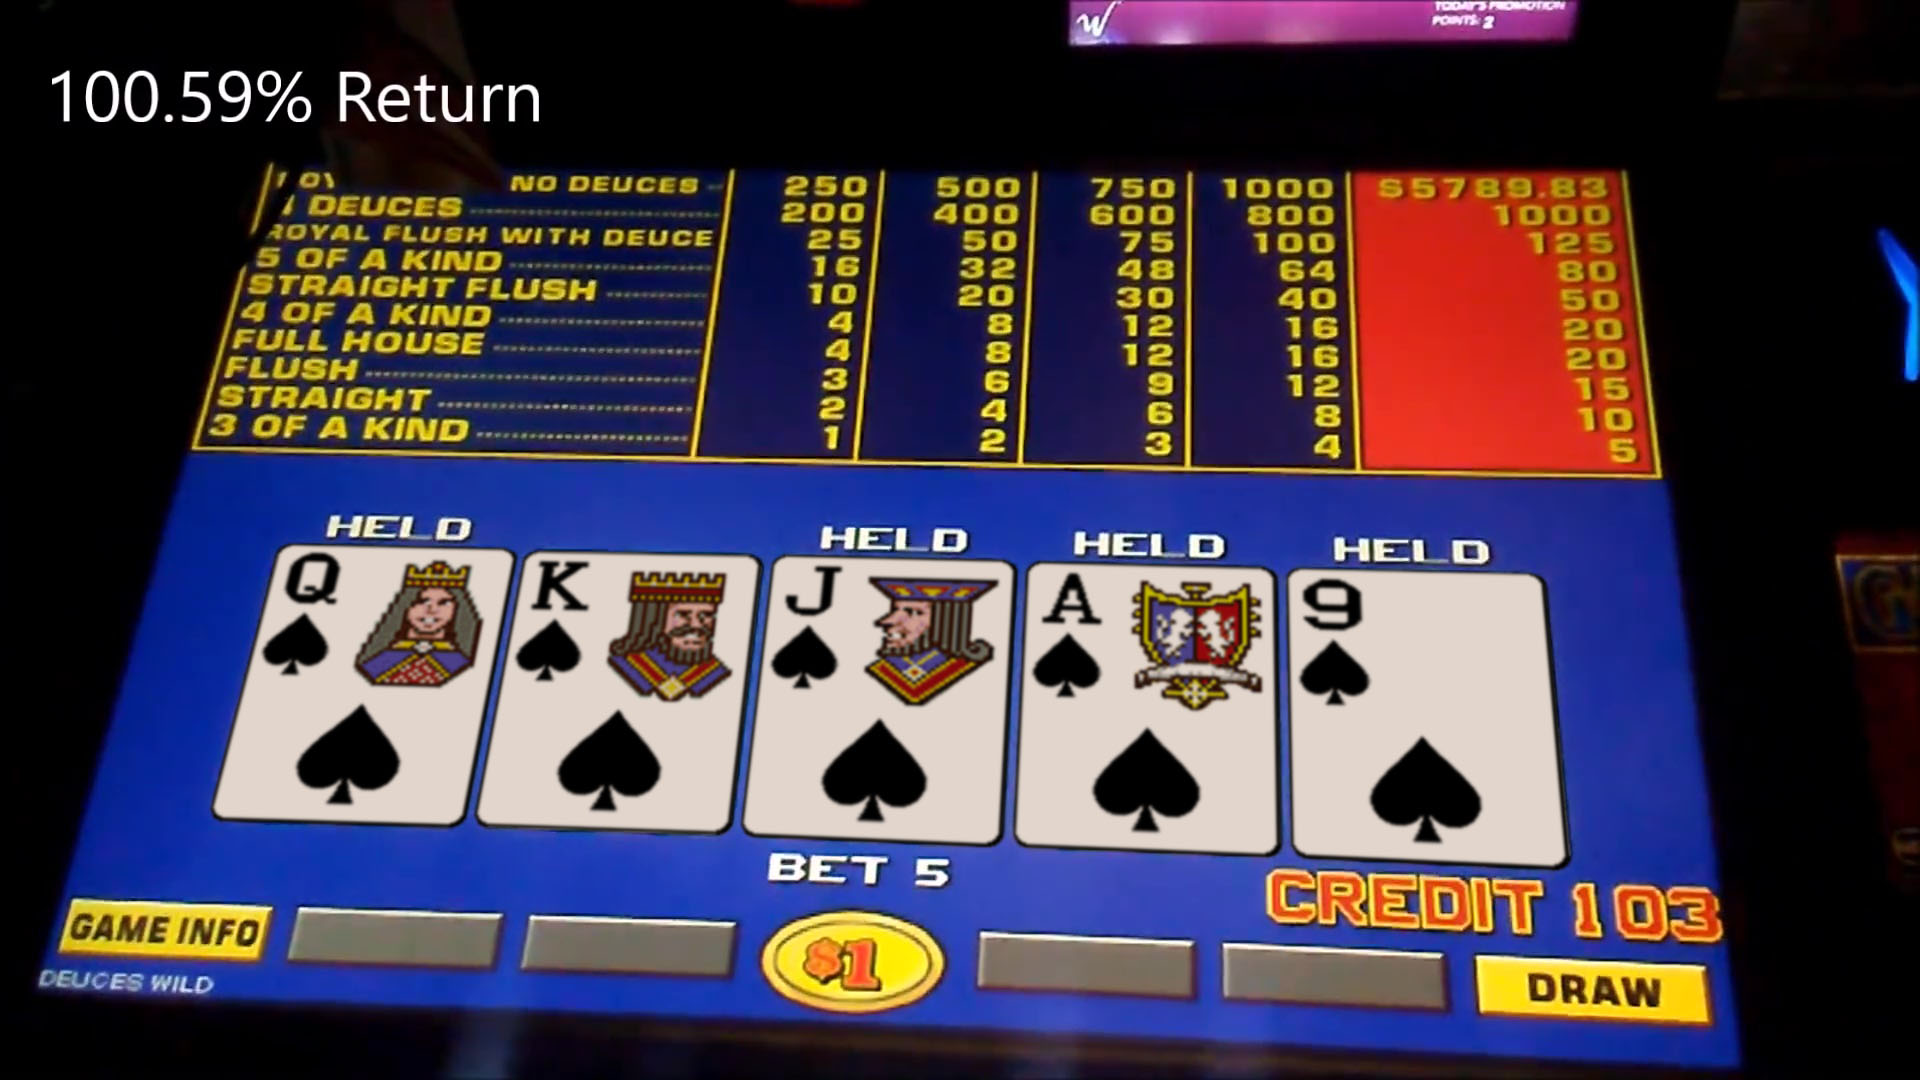S9: (1294, 575, 1553, 855)
SA: (1029, 564, 1270, 853)
SJ: (771, 558, 997, 843)
SK: (522, 553, 735, 828)
SQ: (265, 549, 472, 819)
